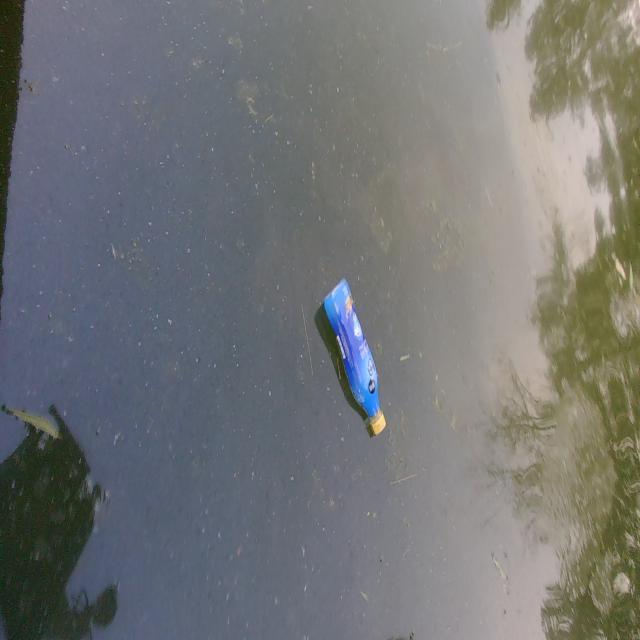bottle: (293, 238, 405, 448)
